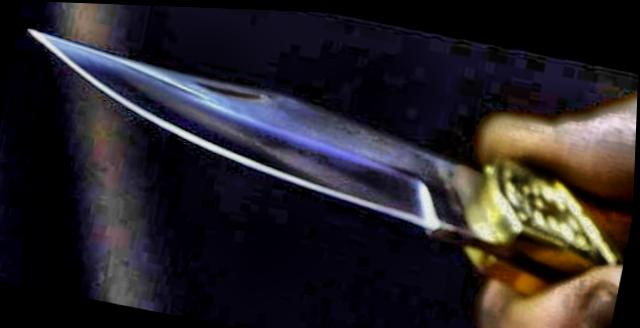knife: (0, 9, 570, 319)
